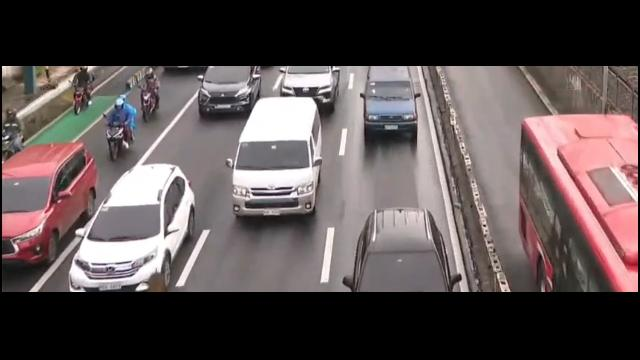bus: (519, 115, 638, 292)
car: (67, 166, 196, 293), (0, 141, 96, 272), (344, 207, 461, 297), (360, 68, 421, 139), (197, 66, 264, 118), (276, 66, 340, 114)
motorcycle: (107, 93, 133, 162), (0, 103, 26, 162), (71, 66, 95, 116), (141, 69, 159, 122)
van: (227, 98, 324, 217)
